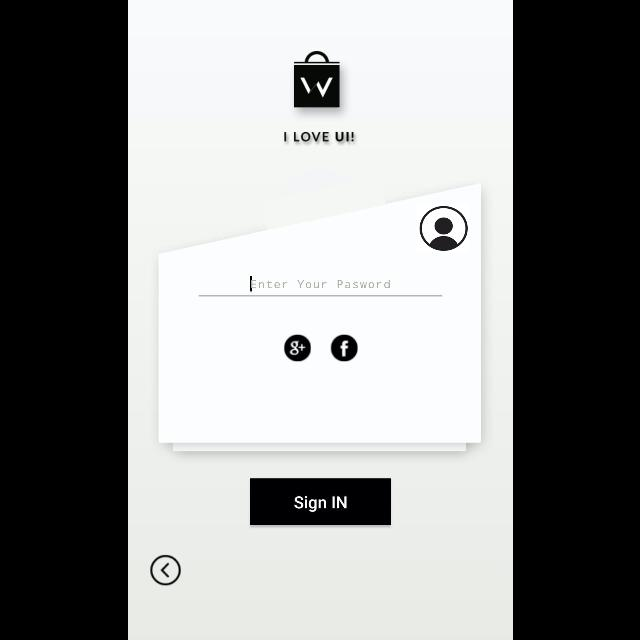icon: (419, 206, 467, 252), (150, 554, 180, 586), (330, 334, 358, 362), (284, 334, 310, 362)
image: (293, 51, 339, 108)
input: (198, 276, 442, 296)
text: (283, 132, 353, 142)
textbutton: (250, 478, 390, 526)
